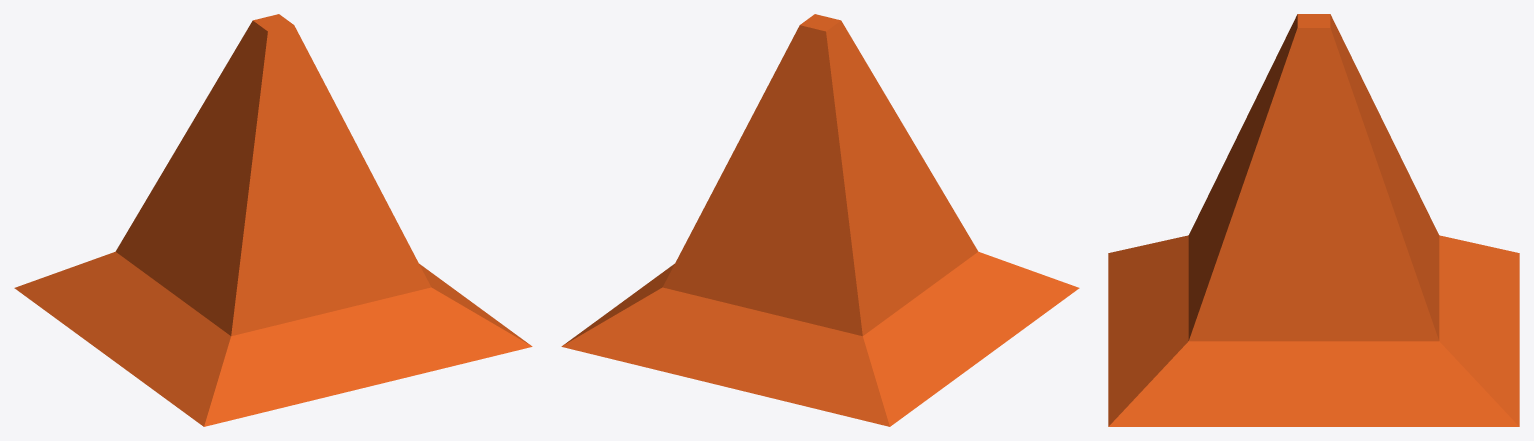
The model's file is roof_mid.gltf.
3 views of the same model, side by side, from view 1: azimuth 30°, elevation 25°; view 2: azimuth 150°, elevation 25°; view 3: azimuth 270°, elevation 25° (orthographic). The views are drawn at different scales.
Visible parts, largest first — view 1: Cube; view 2: Cube; view 3: Cube.
Part boxes in pixels (bbox=[...]): Cube: bbox=[14, 14, 532, 426]; Cube: bbox=[561, 14, 1079, 426]; Cube: bbox=[1108, 14, 1519, 426].
Bounding box in the file's own units: 2 × 1.71 × 2.
